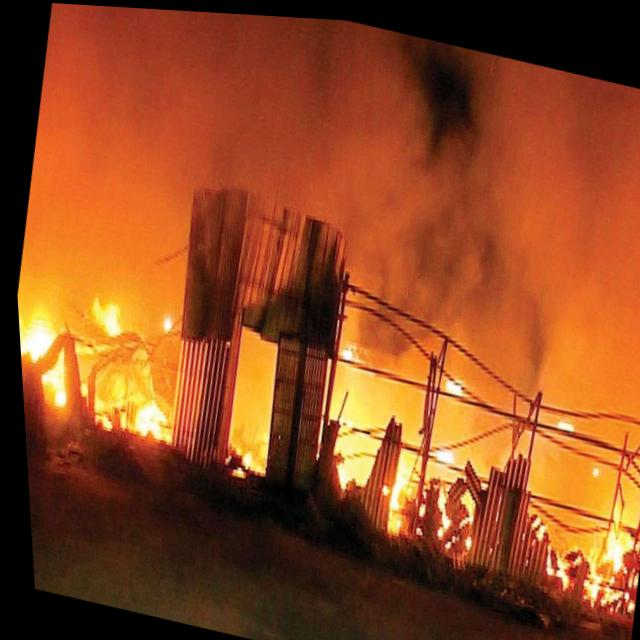fire: (12, 268, 190, 450), (569, 487, 640, 608), (379, 449, 414, 529), (321, 428, 356, 500), (229, 436, 261, 475)
